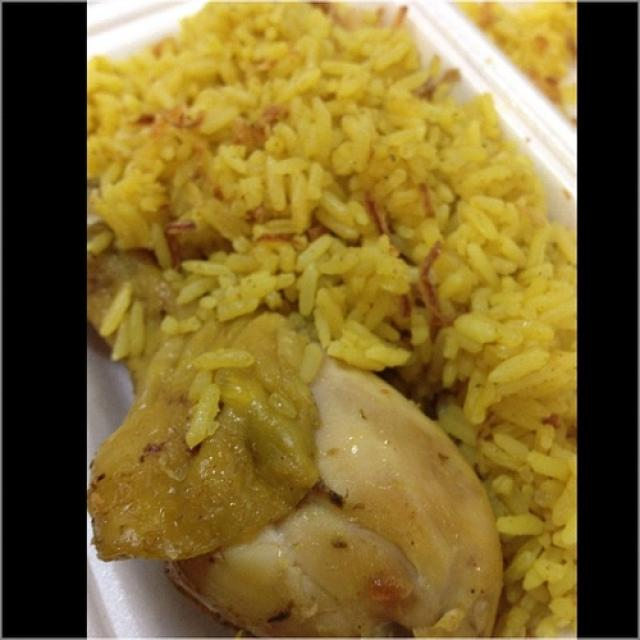米饭主食: (83, 5, 567, 631)
